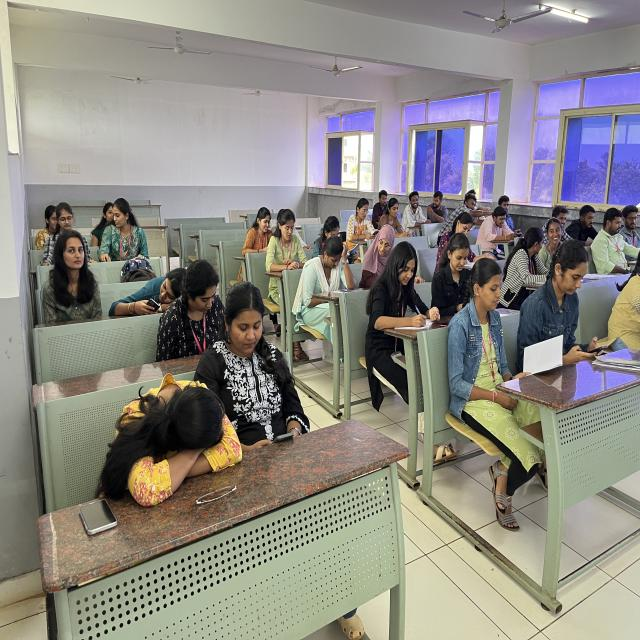Sleeping: (79, 362, 253, 522)
Using Phone: (516, 237, 614, 374), (108, 260, 196, 317), (301, 235, 356, 321), (475, 203, 529, 247), (345, 196, 381, 237), (382, 198, 411, 238)
Writing: (352, 238, 448, 357)
